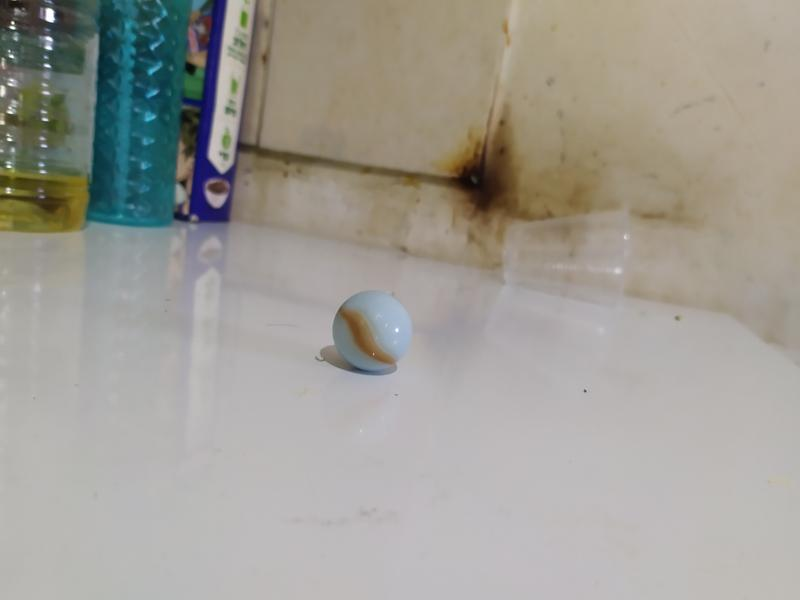Warning: (330, 288, 416, 376)
